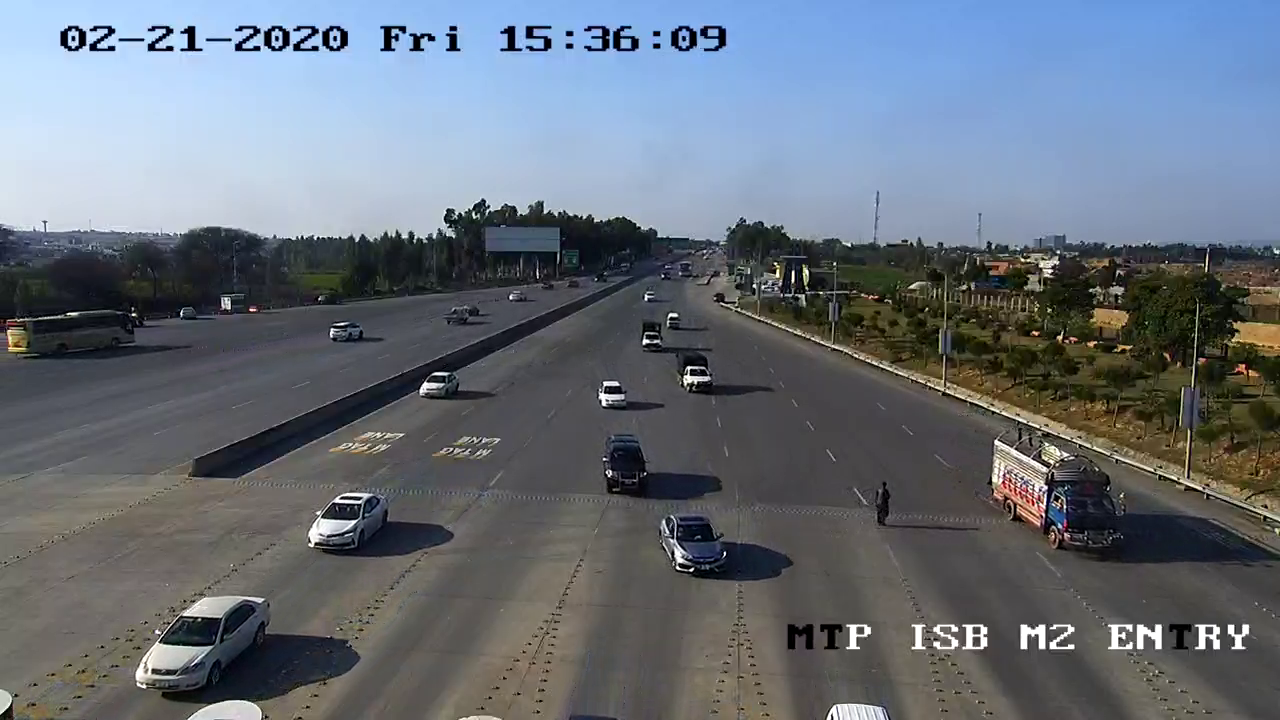f1: (117, 575, 280, 708), (300, 478, 394, 560), (654, 503, 734, 586), (591, 426, 659, 509), (585, 366, 639, 415), (412, 363, 468, 408)
f5: (974, 420, 1137, 563)
